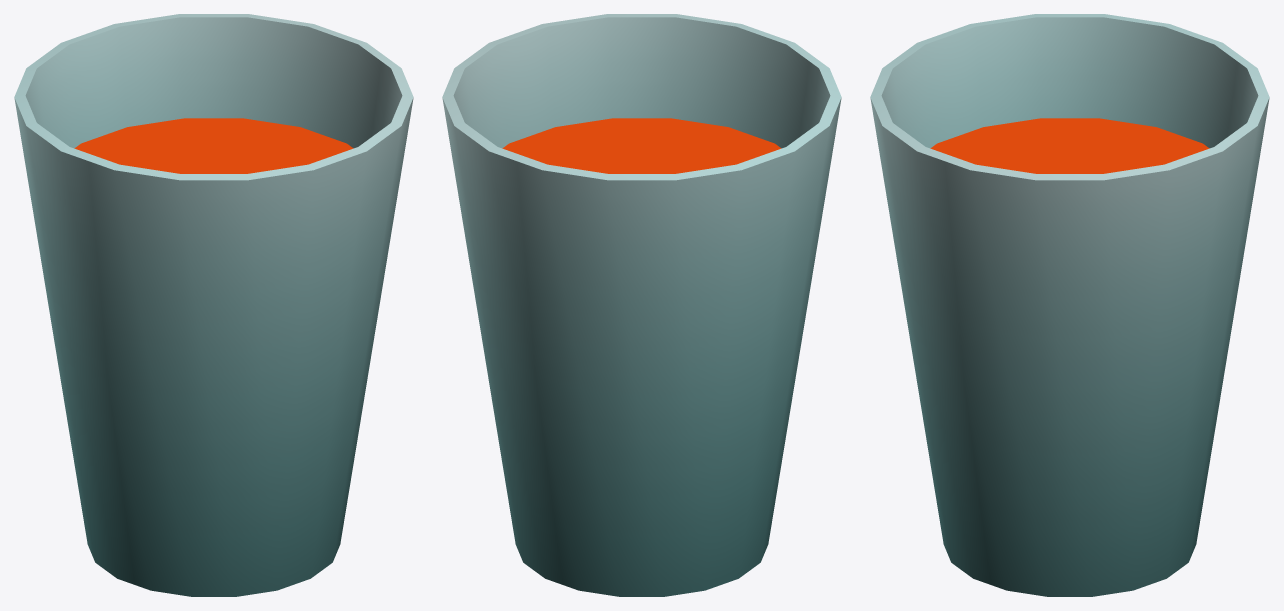
The model's file is Orange_Cup.fbx.
The picture shows the model from 3 angles, left to right: view 1: azimuth 30°, elevation 25°; view 2: azimuth 150°, elevation 25°; view 3: azimuth 270°, elevation 25°; orthographic projection.
Parts seen in each view (by area): view 1: Orange_Cup; view 2: Orange_Cup; view 3: Orange_Cup.
Boxes of the visible parts, x1,y1,x2,y2 form: Orange_Cup: [14, 14, 413, 596]; Orange_Cup: [442, 14, 841, 596]; Orange_Cup: [870, 14, 1269, 596].
Size of the model in its own units: 0.1926 by 0.2424 by 0.1955.
